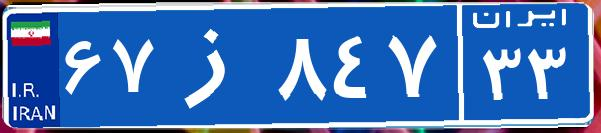3: (475, 38, 525, 113), (525, 38, 570, 115)
4: (330, 28, 385, 110)
6: (57, 26, 110, 107)
7: (385, 28, 445, 110), (110, 28, 158, 105)
8: (273, 28, 330, 110)
ز: (158, 15, 273, 115)
